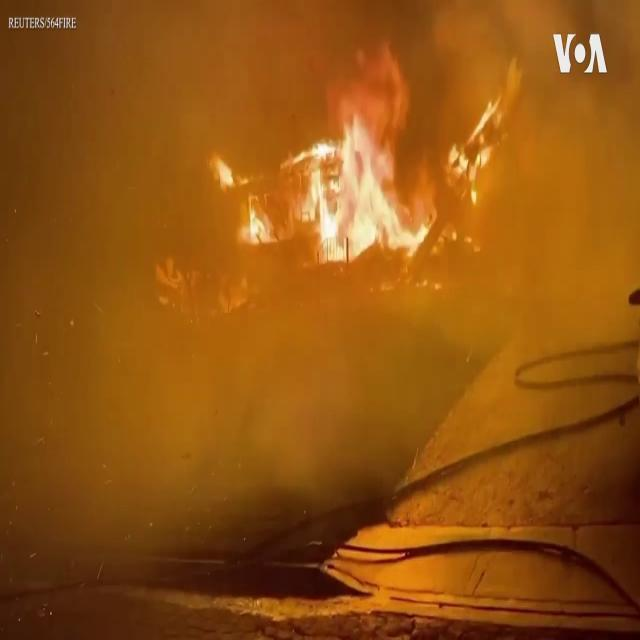Fire: (290, 47, 436, 272), (214, 140, 280, 250)
Smoke: (0, 1, 316, 546)
